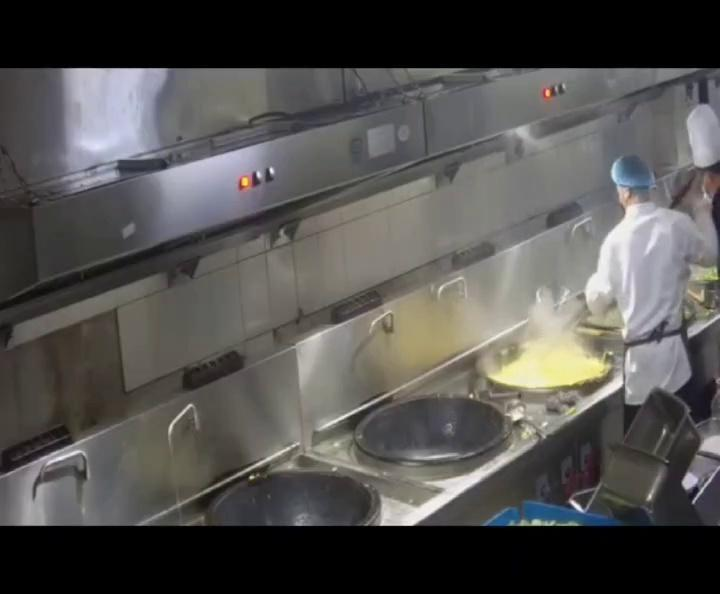gloves: (609, 154, 657, 189)
